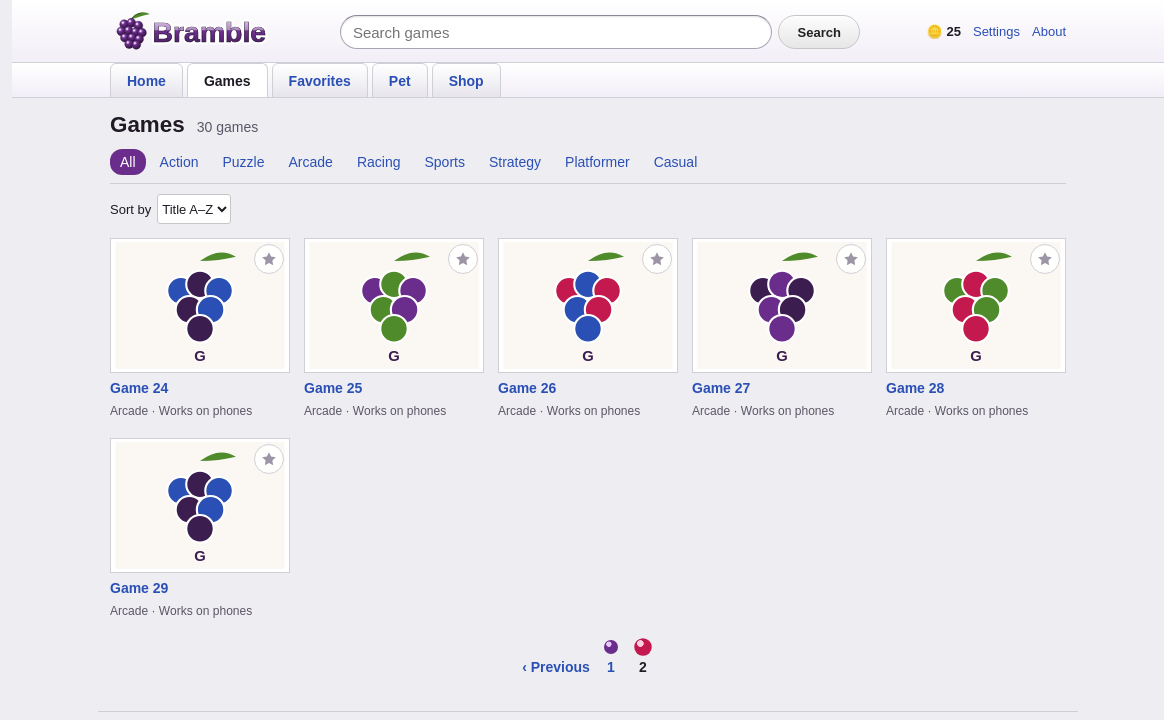
Test case: LibraryPage › category tab sets ?cat=puzzle and page resets to 1
Click the link "Puzzle": (244, 162) [222, 154, 264, 170]
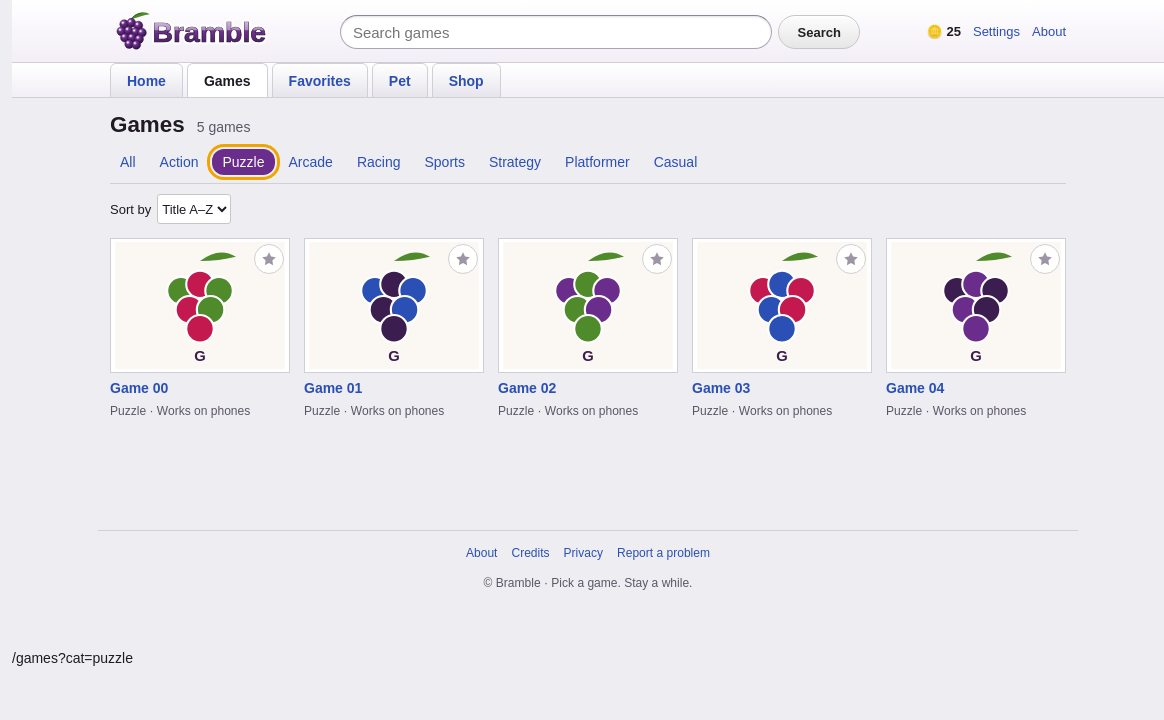
Check: the text with test id "location" reads "/games?cat=puzzle", box [12, 650, 133, 666]
